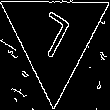L_SW: (31, 8, 77, 67)
